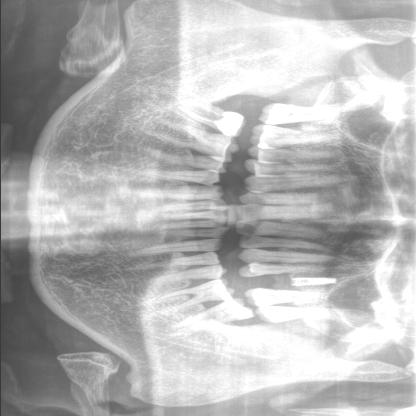Bicon: (286, 274, 342, 290)
